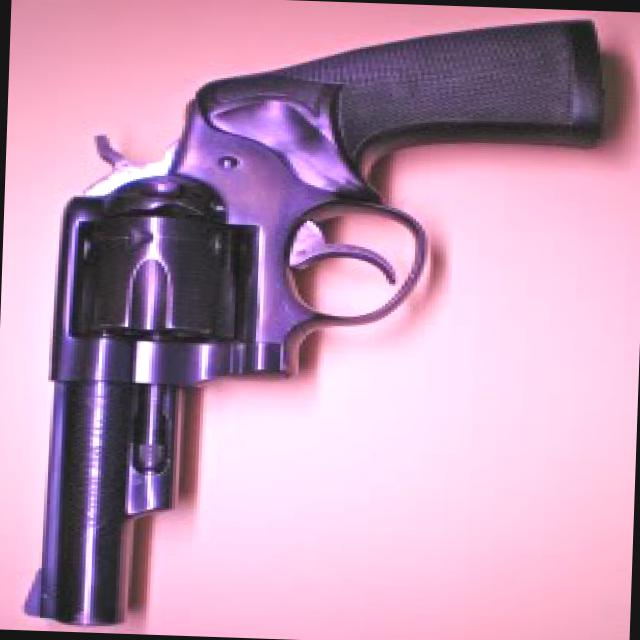handgun: (14, 0, 598, 639)
